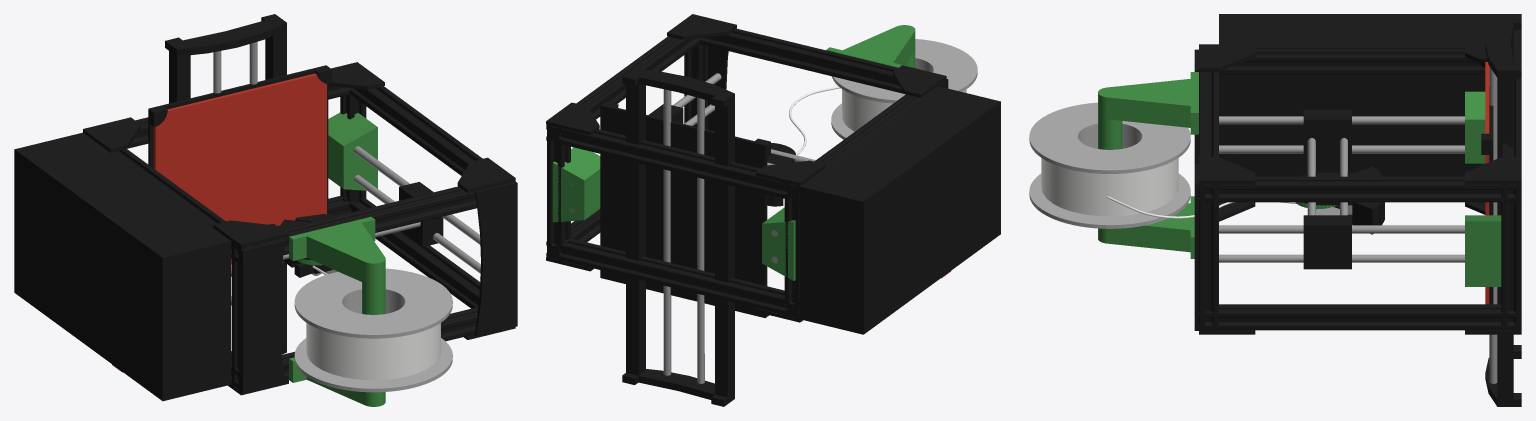
The model's file is simple-3d-printer v7.fbx.
3 views of the same model, side by side, from view 1: azimuth 30°, elevation 25°; view 2: azimuth 150°, elevation 25°; view 3: azimuth 270°, elevation 25° (orthographic). The views are drawn at different scales.
Parts seen in each view (by area): view 1: Body1, Body10, Body34, Body32, Body36, Body16, Body9, Body17, Body14, Body12; view 2: Body1, Body9, Body34, Body16, Body32, Body8, Body7, Body15, Body36, Body21; view 3: Body1, Body34, Body32, Body36, Body17, Body16, Body18, Body11, Body13, Body12, Body14, Body15 (+5 smaller).
Boxes of the visible parts, box(x1,y1,x2,y2) form: Body1: box(14, 14, 517, 401); Body10: box(153, 73, 326, 264); Body34: box(294, 268, 452, 392); Body32: box(289, 216, 385, 406); Body36: box(306, 265, 440, 380); Body16: box(328, 112, 377, 190); Body9: box(148, 65, 332, 264); Body17: box(399, 182, 443, 246); Body14: box(353, 146, 480, 244); Body12: box(354, 175, 480, 273); Body1: box(546, 14, 1000, 406); Body9: box(600, 101, 770, 318); Body34: box(831, 39, 977, 139); Body16: box(552, 147, 600, 222); Body32: box(826, 25, 915, 67); Body8: box(663, 89, 671, 375); Body7: box(697, 97, 704, 383); Body15: box(762, 207, 795, 280); Body36: box(789, 86, 966, 155); Body21: box(767, 143, 795, 206); Body1: box(1194, 14, 1521, 406); Body34: box(1029, 102, 1190, 228); Body32: box(1098, 72, 1198, 258); Body36: box(1041, 158, 1296, 218); Body17: box(1303, 215, 1351, 269); Body16: box(1465, 215, 1501, 286); Body18: box(1303, 109, 1351, 163); Body11: box(1219, 145, 1464, 153); Body13: box(1219, 116, 1464, 124); Body12: box(1219, 254, 1464, 262); Body14: box(1219, 225, 1464, 233); Body15: box(1465, 91, 1485, 163).
Size of the model in its own units: 0.5005 by 0.46 by 0.61.
